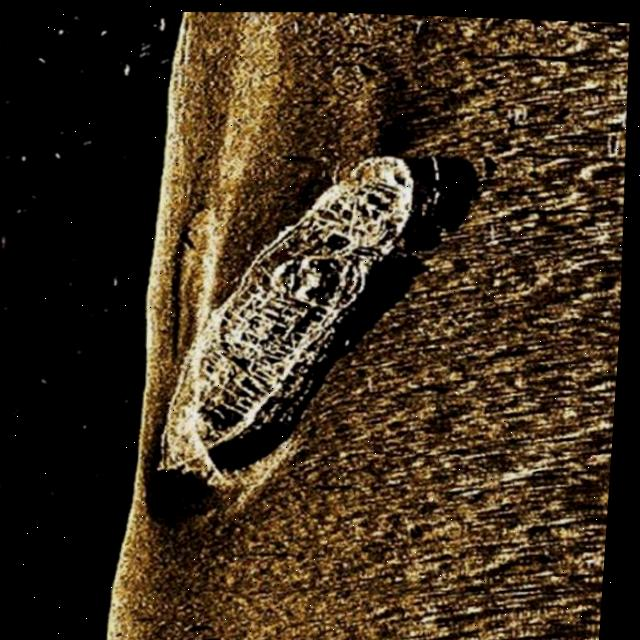shipwreck: (142, 143, 431, 483)
